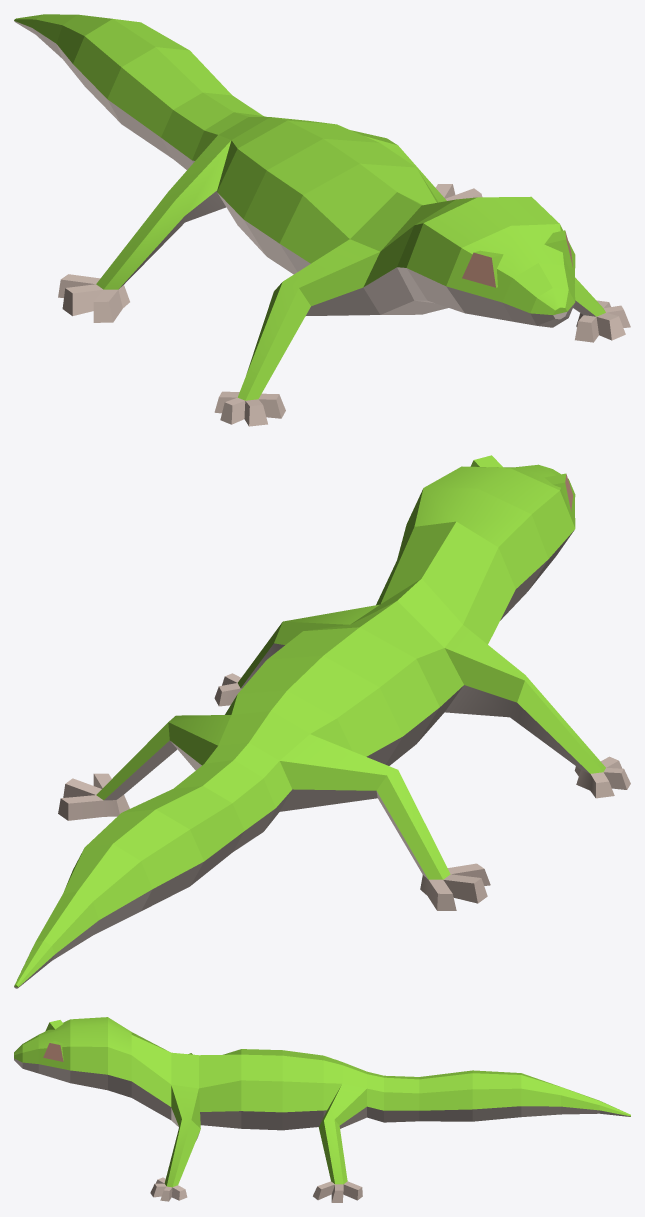
The picture shows the model from 3 angles, top to bottom: view 1: azimuth 30°, elevation 25°; view 2: azimuth 150°, elevation 25°; view 3: azimuth 270°, elevation 25°; orthographic projection. The views are drawn at different scales.
Parts seen in each view (by area): view 1: Geo_Gecko; view 2: Geo_Gecko; view 3: Geo_Gecko.
Boxes of the visible parts, x1,y1,x2,y2 form: Geo_Gecko: (14, 14, 630, 426); Geo_Gecko: (14, 455, 630, 988); Geo_Gecko: (14, 1017, 630, 1202).
Size of the model in its own units: 54.11 by 26.48 by 123.
1 material, 1 textured.
